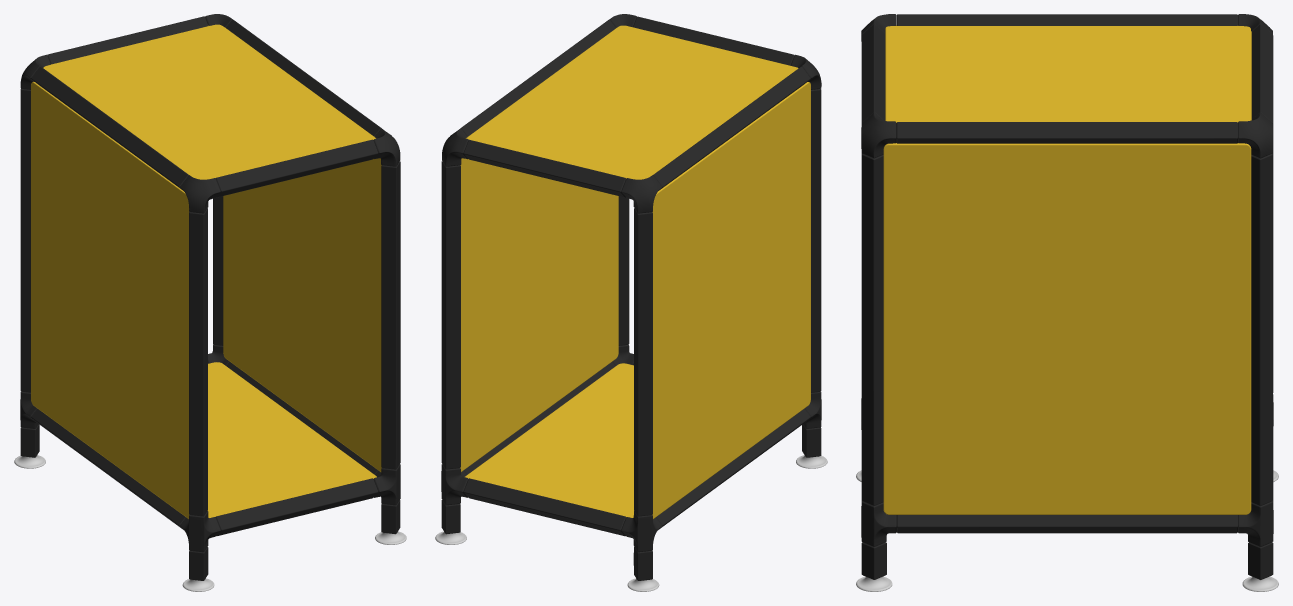
3 renders of one model, left to right at view 1: azimuth 30°, elevation 25°; view 2: azimuth 150°, elevation 25°; view 3: azimuth 270°, elevation 25°, orthographic. The views are drawn at different scales.
Visible parts, largest first — view 1: 229x374x420; view 2: 229x374x420; view 3: 229x374x420.
Part boxes in pixels (box(x1,y1,x2,y2)): 229x374x420: box(14, 14, 406, 591); 229x374x420: box(435, 14, 827, 591); 229x374x420: box(856, 14, 1278, 591).
Bounding box in the file's own units: 0.3188 × 0.5593 × 0.4632.
